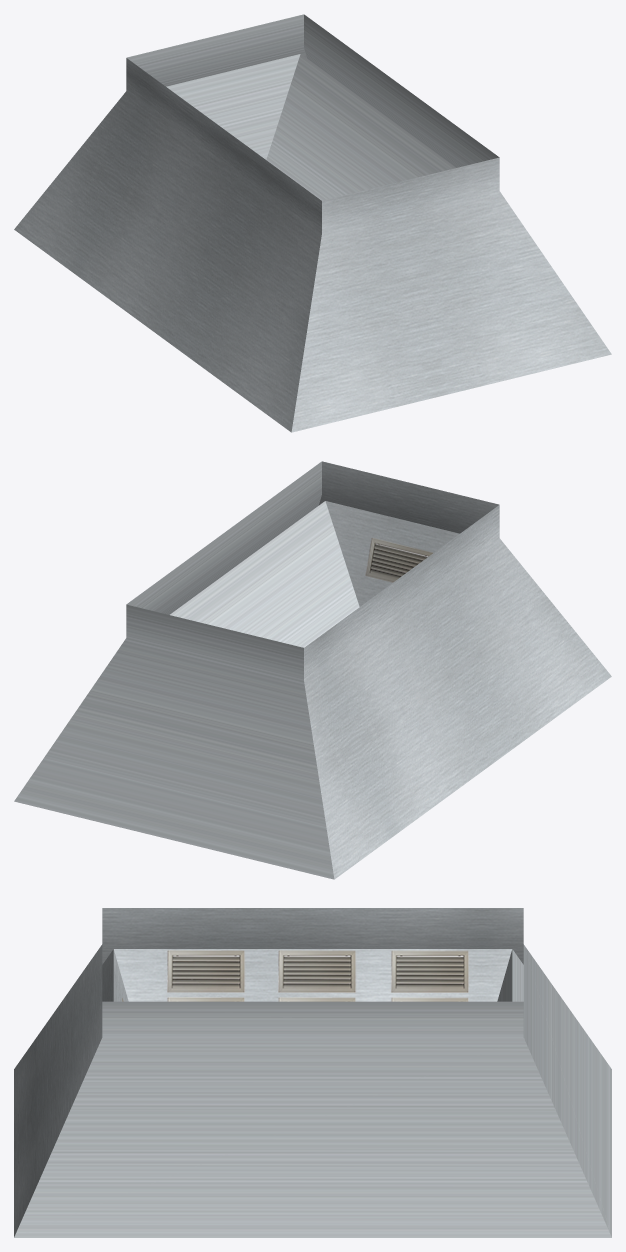
File: Extractor.fbx
3 views of the same model, one above another, from view 1: azimuth 30°, elevation 25°; view 2: azimuth 150°, elevation 25°; view 3: azimuth 270°, elevation 25° (orthographic). The views are drawn at different scales.
Visible parts, largest first — view 1: Extractor; view 2: Extractor; view 3: Extractor.
Part boxes in pixels (bbox=[...]): Extractor: bbox=[14, 14, 611, 432]; Extractor: bbox=[14, 461, 611, 879]; Extractor: bbox=[14, 908, 611, 1237].
Bounding box in the file's own units: 20 × 11 × 30.
